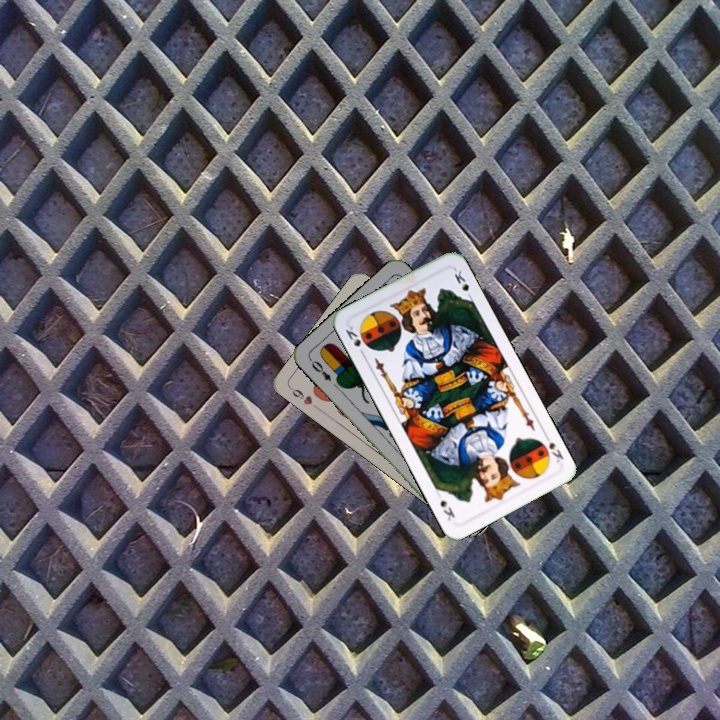EO: (305, 355, 334, 384)
H9: (286, 383, 321, 412)
SK: (341, 322, 368, 359), (540, 430, 566, 465)
